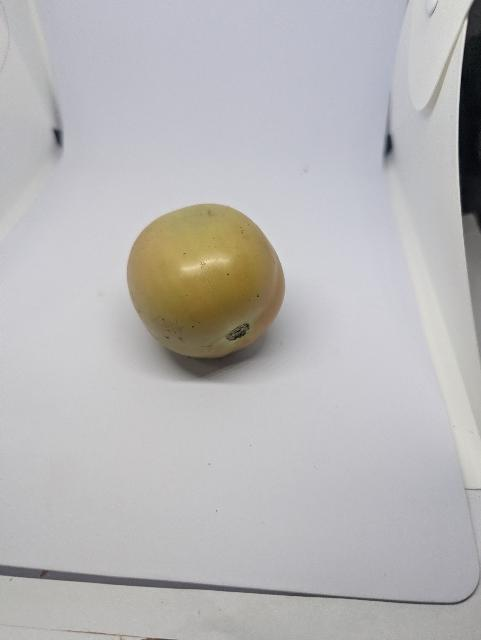breaker: (124, 198, 298, 368)
